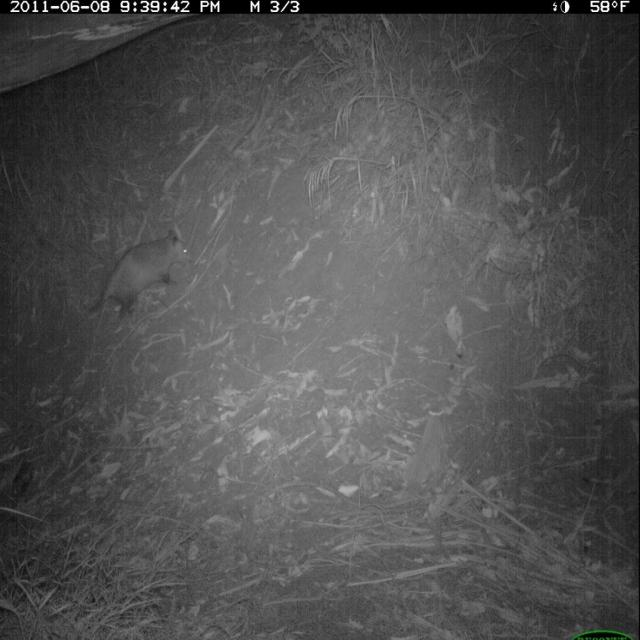opossum: (67, 221, 197, 342)
